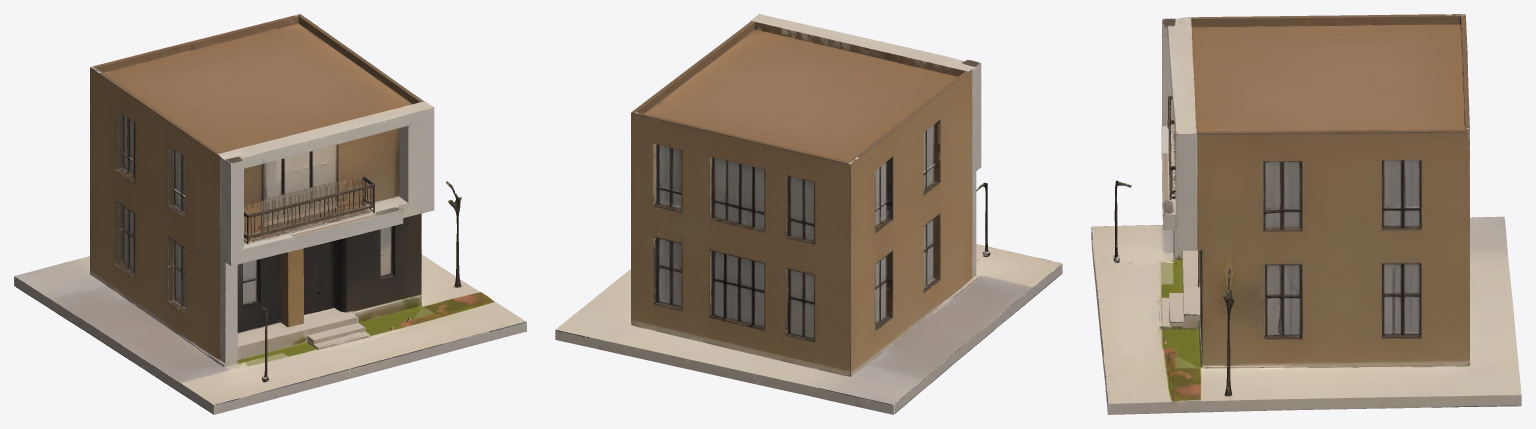
Rendered from house-brick.glb.
3 views of the same model, side by side, from view 1: azimuth 30°, elevation 25°; view 2: azimuth 150°, elevation 25°; view 3: azimuth 270°, elevation 25° (orthographic). The views are drawn at different scales.
Parts seen in each view (by area): view 1: model; view 2: model; view 3: model.
Boxes of the visible parts, left/top/right/bottom form: model: left=14, top=14, right=526, bottom=414; model: left=555, top=14, right=1062, bottom=414; model: left=1091, top=14, right=1521, bottom=414.
Bounding box in the file's own units: 13.47 × 8.27 × 13.09.
Materials: 1 (1 with a texture image).
